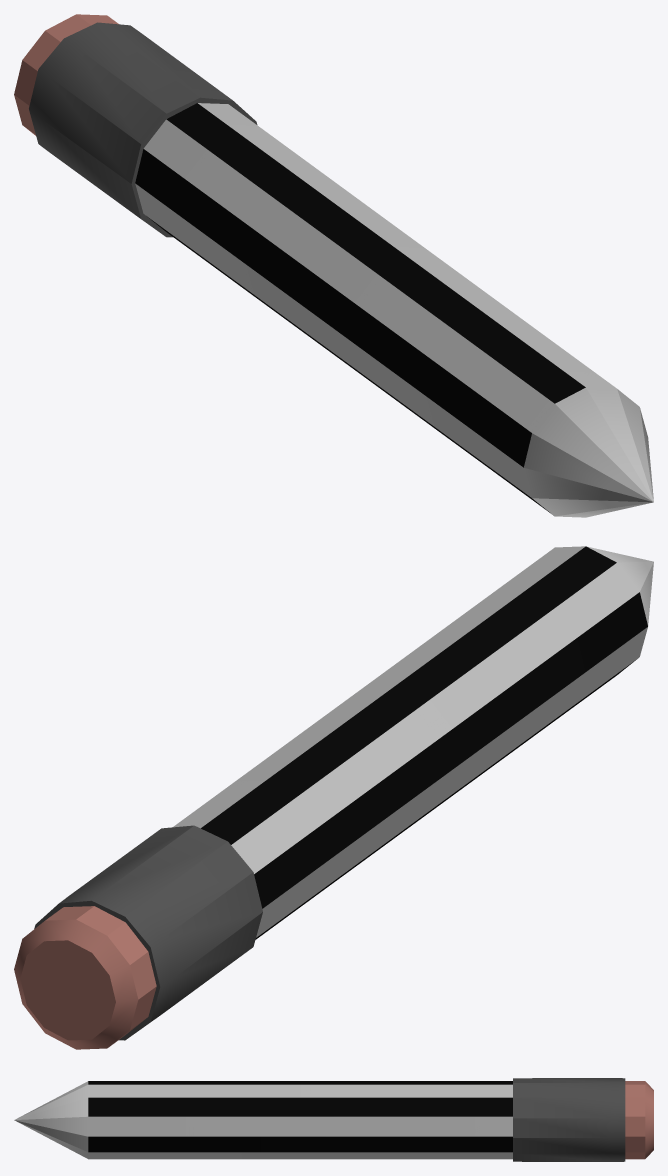
The model's file is pencil.fbx.
The picture shows the model from 3 angles, top to bottom: view 1: azimuth 30°, elevation 25°; view 2: azimuth 150°, elevation 25°; view 3: azimuth 270°, elevation 25°; orthographic projection. The views are drawn at different scales.
Parts seen in each view (by area): view 1: pCylinder1; view 2: pCylinder1; view 3: pCylinder1.
Boxes of the visible parts, bbox=[...] form: pCylinder1: bbox=[14, 14, 653, 517]; pCylinder1: bbox=[14, 546, 653, 1049]; pCylinder1: bbox=[14, 1078, 653, 1161].
Size of the model in its own units: 0.2255 by 0.2244 by 1.71.
